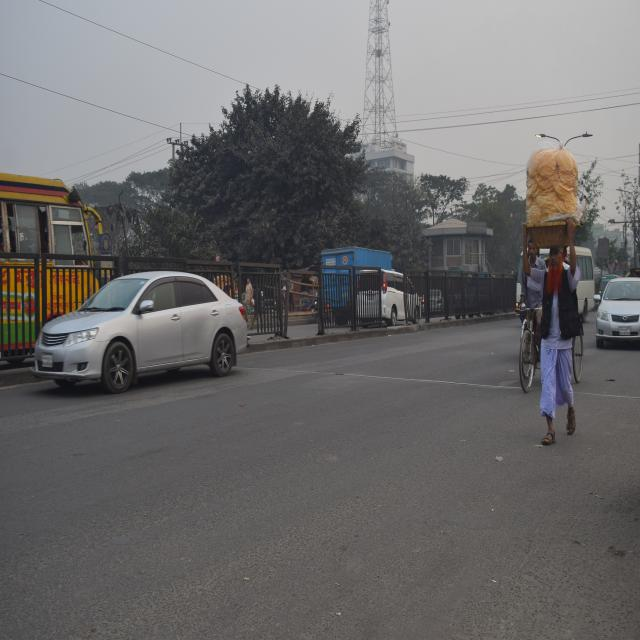bus: (0, 146, 106, 360)
car: (33, 264, 254, 412), (598, 265, 640, 347)
microbus: (351, 263, 426, 326)
pickup-van: (316, 223, 394, 318)
